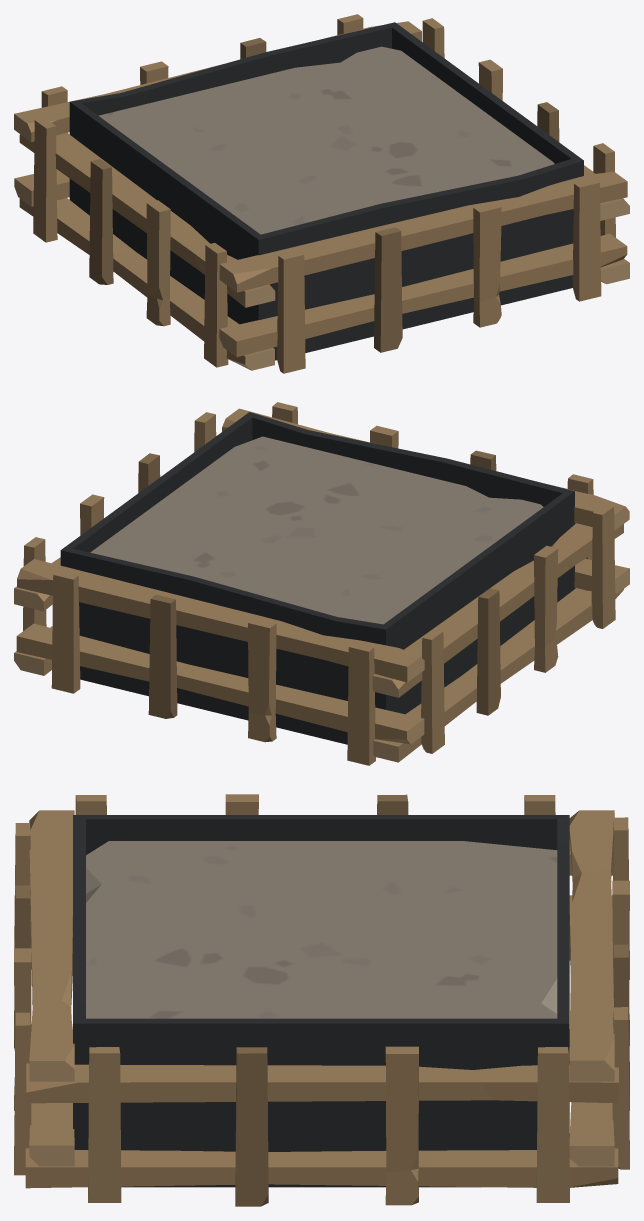
File: SM_Bld_ConcreteFrame_Pillar_Short_01.glb
3 views of the same model, one above another, from view 1: azimuth 30°, elevation 25°; view 2: azimuth 150°, elevation 25°; view 3: azimuth 270°, elevation 25° (orthographic). The views are drawn at different scales.
Visible parts, largest first — view 1: SM_Bld_ConcreteFrame_Pillar_Short_01; view 2: SM_Bld_ConcreteFrame_Pillar_Short_01; view 3: SM_Bld_ConcreteFrame_Pillar_Short_01.
Part boxes in pixels (<box>): SM_Bld_ConcreteFrame_Pillar_Short_01: <box>14,14,629,373</box>; SM_Bld_ConcreteFrame_Pillar_Short_01: <box>14,402,629,765</box>; SM_Bld_ConcreteFrame_Pillar_Short_01: <box>14,794,629,1206</box>.
Size of the model in its own units: 2.61 by 0.7763 by 2.61.
1 material, 1 textured.
